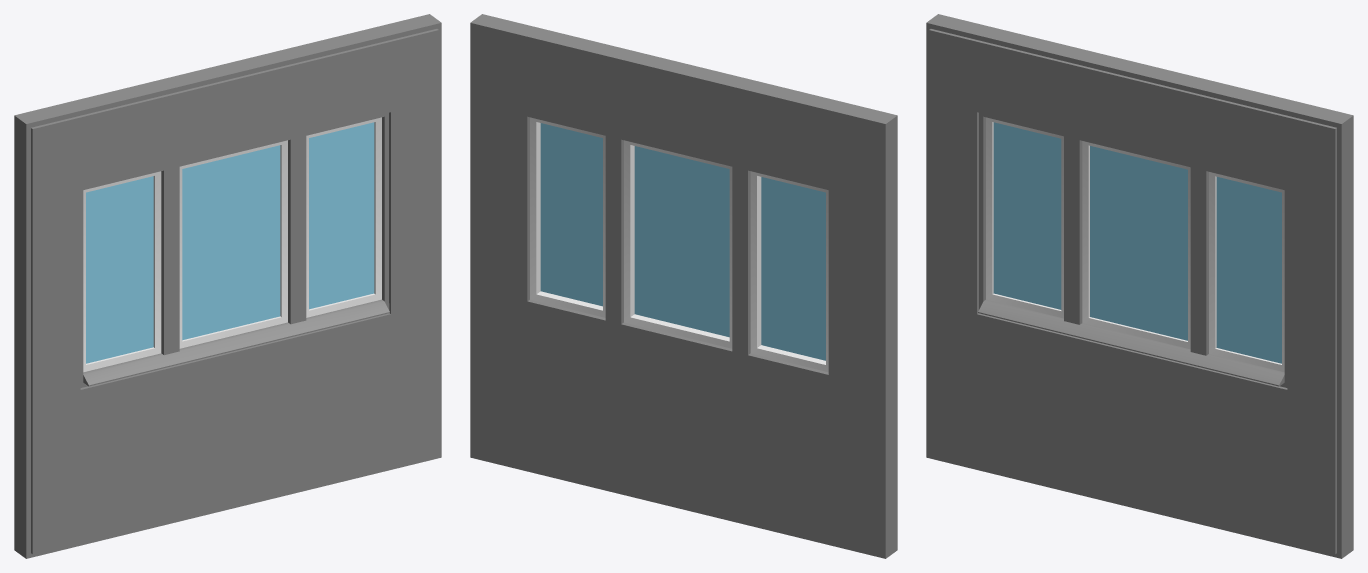
Rendered from Windows.FBX.
The picture shows the model from 3 angles, left to right: view 1: azimuth 30°, elevation 25°; view 2: azimuth 150°, elevation 25°; view 3: azimuth 330°, elevation 25°; orthographic projection.
Visible parts, largest first — view 1: Windows; view 2: Windows; view 3: Windows.
Boxes of the visible parts, box(x1,y1,x2,y2) form: Windows: box(14, 14, 441, 558); Windows: box(470, 14, 897, 558); Windows: box(926, 14, 1353, 558).
Size of the model in its own units: 20 by 20 by 1.45.
